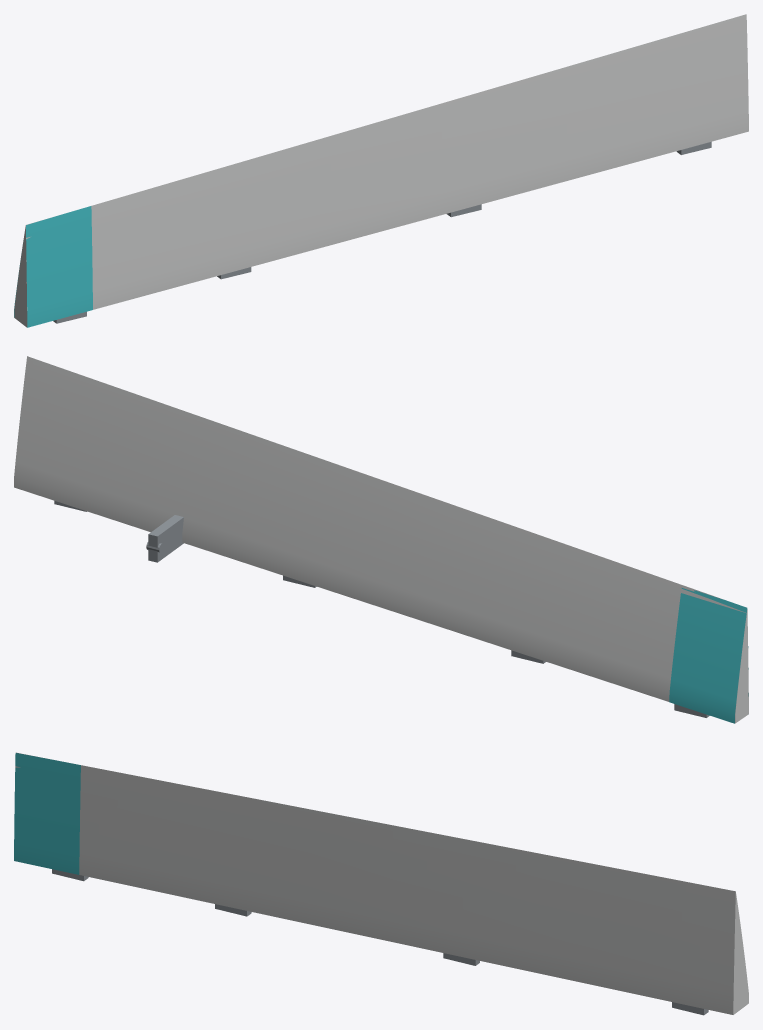
File: aleron_der.glb
3 views of the same model, one above another, from view 1: azimuth 30°, elevation 25°; view 2: azimuth 150°, elevation 25°; view 3: azimuth 330°, elevation 25° (orthographic). The views are drawn at different scales.
Parts seen in each view (by area): view 1: Aleron; view 2: Aleron; view 3: Aleron.
Part boxes in pixels (left/top/right/bottom): Aleron: left=14, top=14, right=748, bottom=327; Aleron: left=14, top=356, right=748, bottom=723; Aleron: left=14, top=752, right=748, bottom=1015.
Bounding box in the file's own units: 0.242 × 0.0532 × 0.0255.
